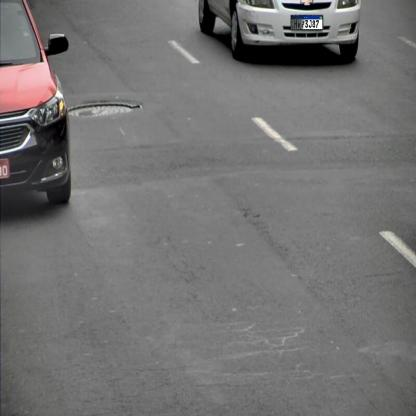PlacaM: (291, 15, 323, 30)
